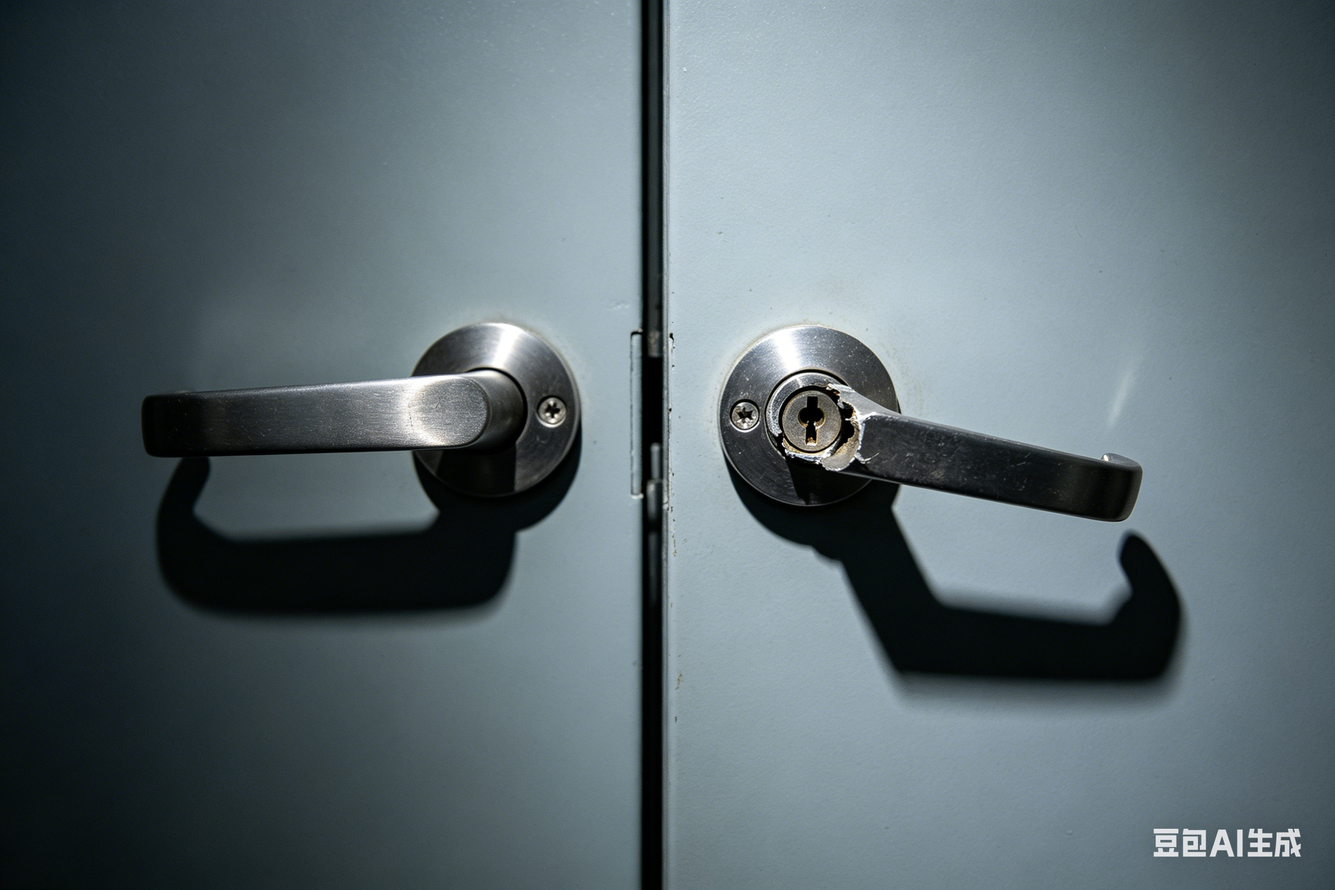BadLock: (735, 364, 887, 477)
